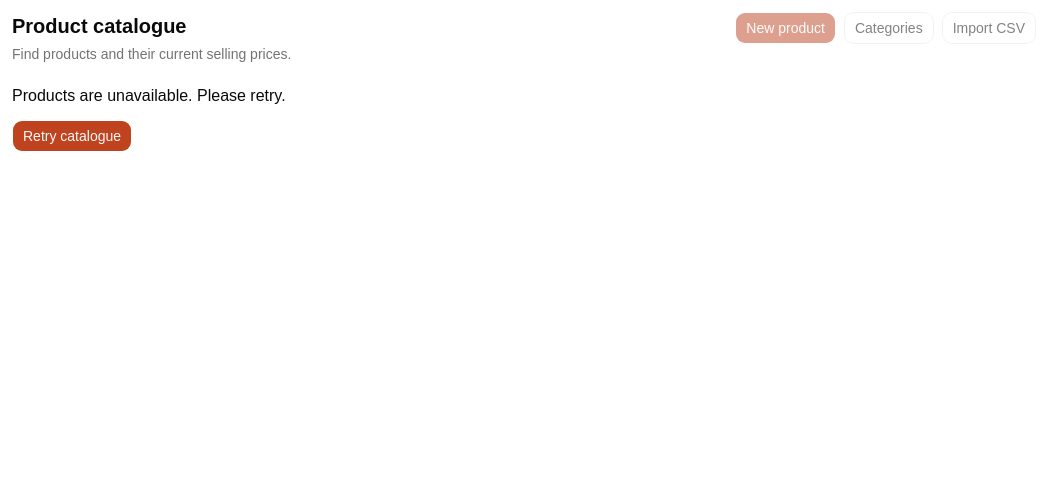
Scenario: shows catalogue failure and retry without inventing product rows
The image size is (1048, 481).
Expected: the message shows "unavailable", 12,87 -> 286,104
Expected: the text "Loose rice" is not shown
Step 1. Click the button "Retry catalogue" → point(72, 136), box 12,120 -> 132,152
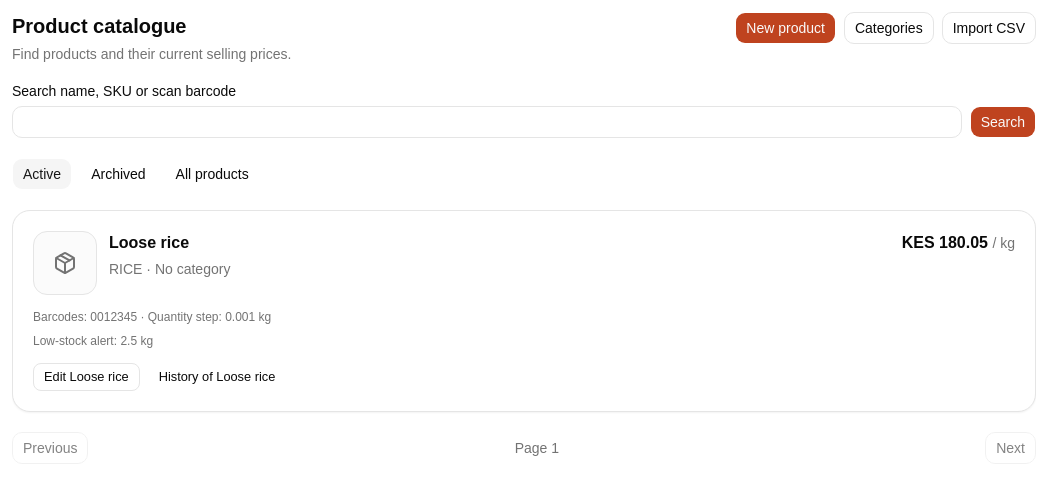
Now the heading "Loose rice" is shown, box 109,234 -> 189,251
